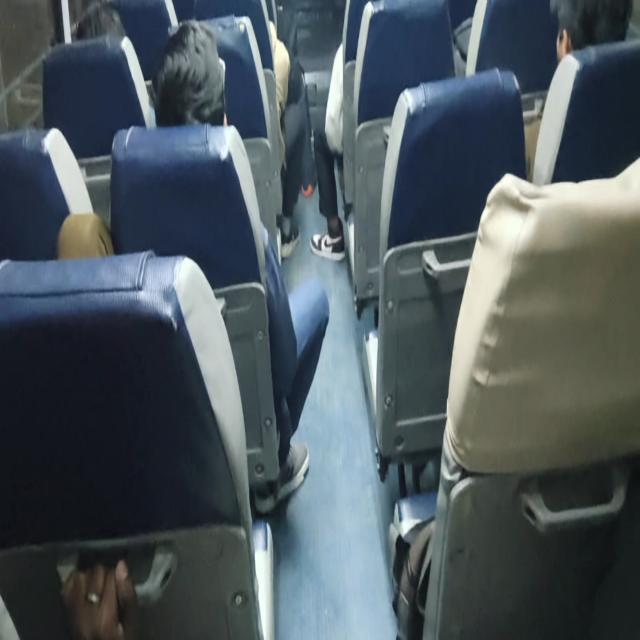person: (154, 42, 237, 134), (529, 0, 625, 76), (71, 0, 132, 65)
